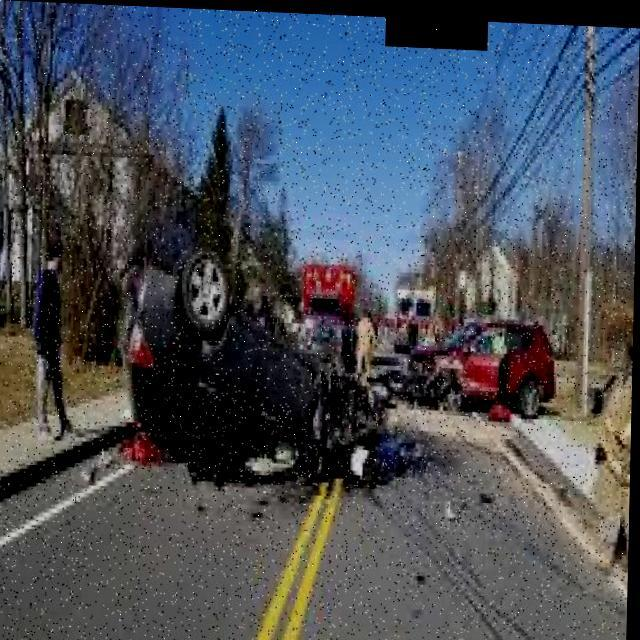multiple_accident: (98, 217, 415, 538), (397, 268, 585, 437)
